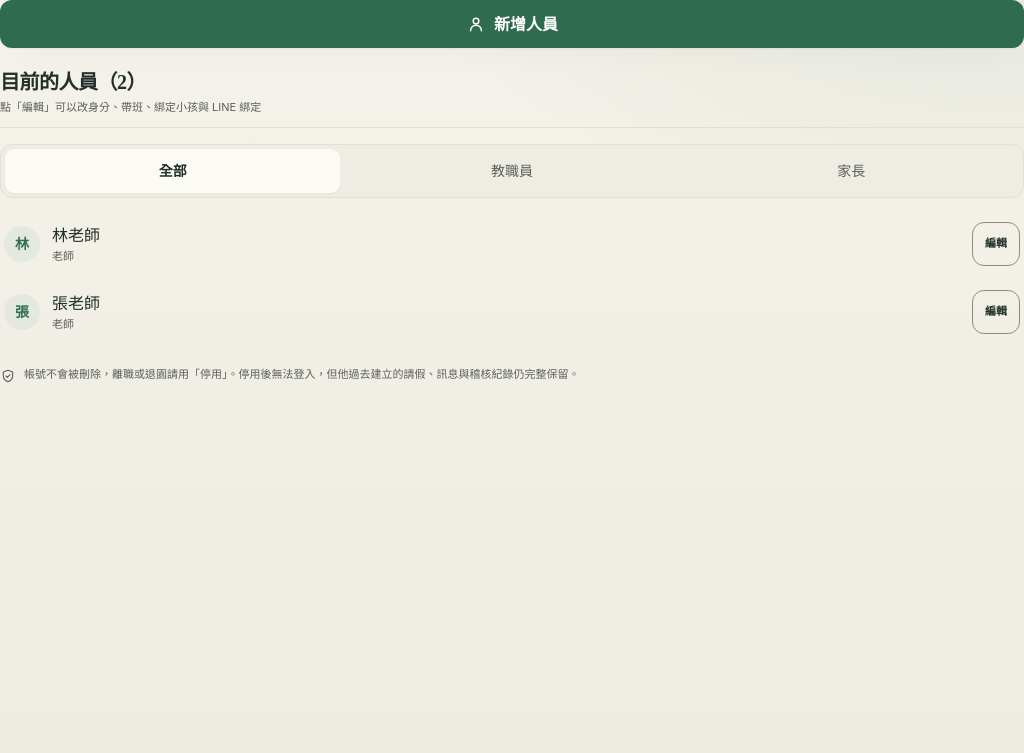
Test: 人員管理的編輯面板 › 沒關閉就直接改點另一個人，姓名欄要跟著換人
What coordinates should you click on to do the following:
click the button with aria-label "編輯 林老師"
I would click on:
 (996, 244)
Its box is [972, 222, 1020, 266].
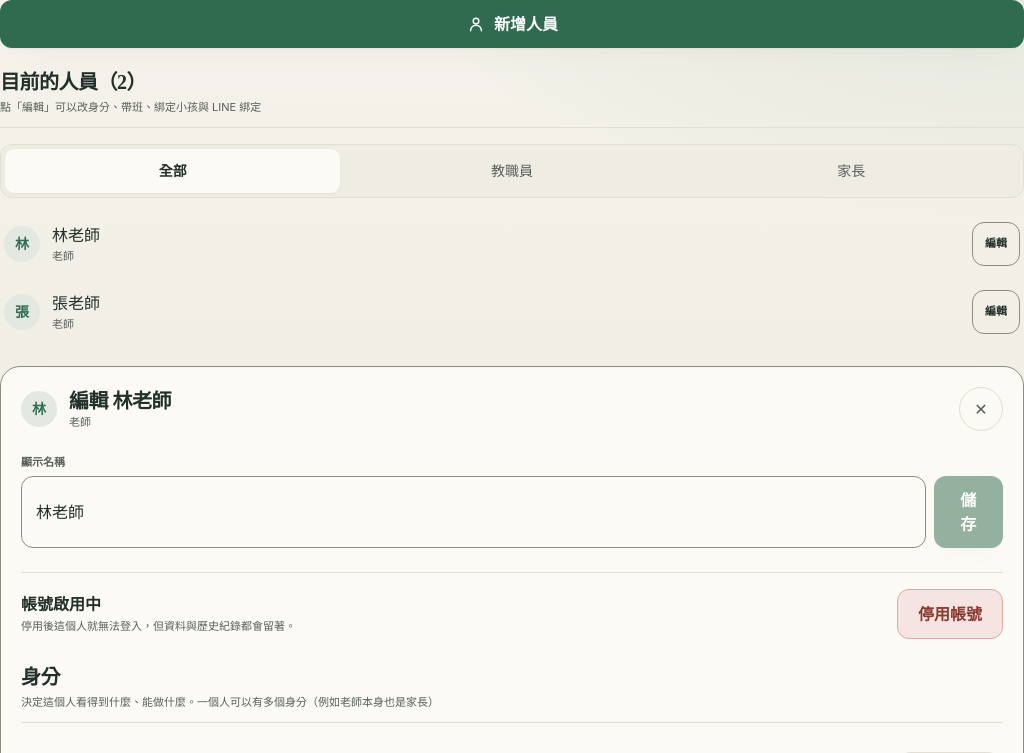
Expected: the field labelled "顯示名稱 儲存" holds "林老師", [21, 476, 926, 548]
What coordinates should you click on to do the following:
click the button with aria-label "編輯 張老師"
I would click on:
 (996, 312)
Its box is [972, 290, 1020, 334].
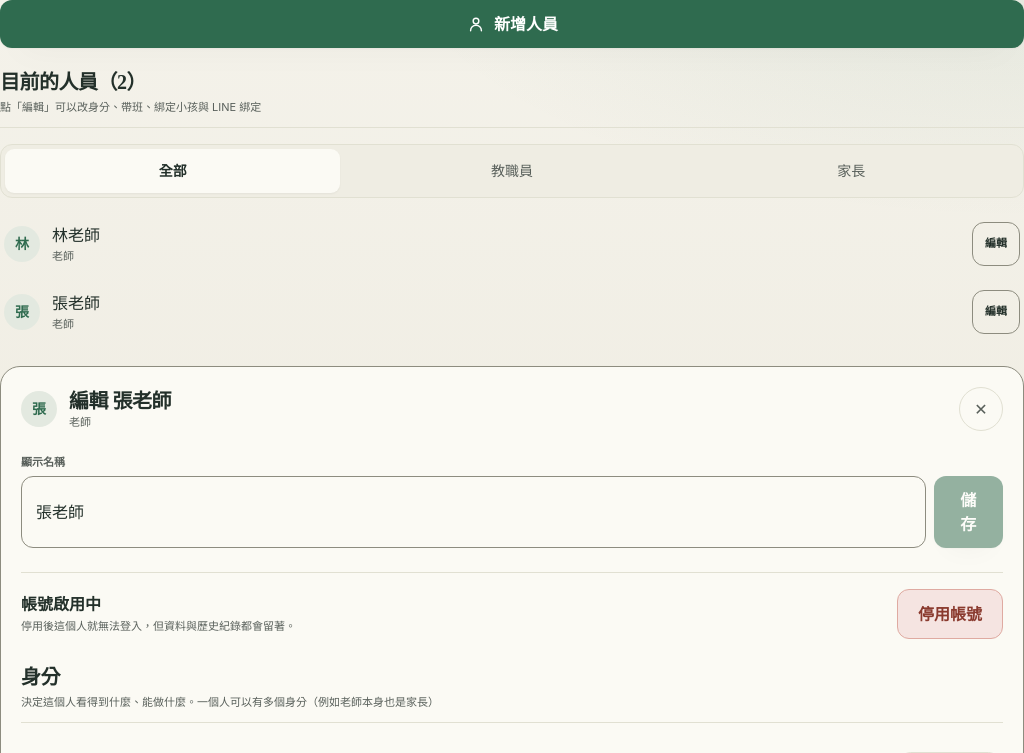
Expected: the text "編輯 張老師" is shown, [69, 390, 171, 412]
Expected: the field labelled "顯示名稱 儲存" holds "張老師", [21, 476, 926, 548]
